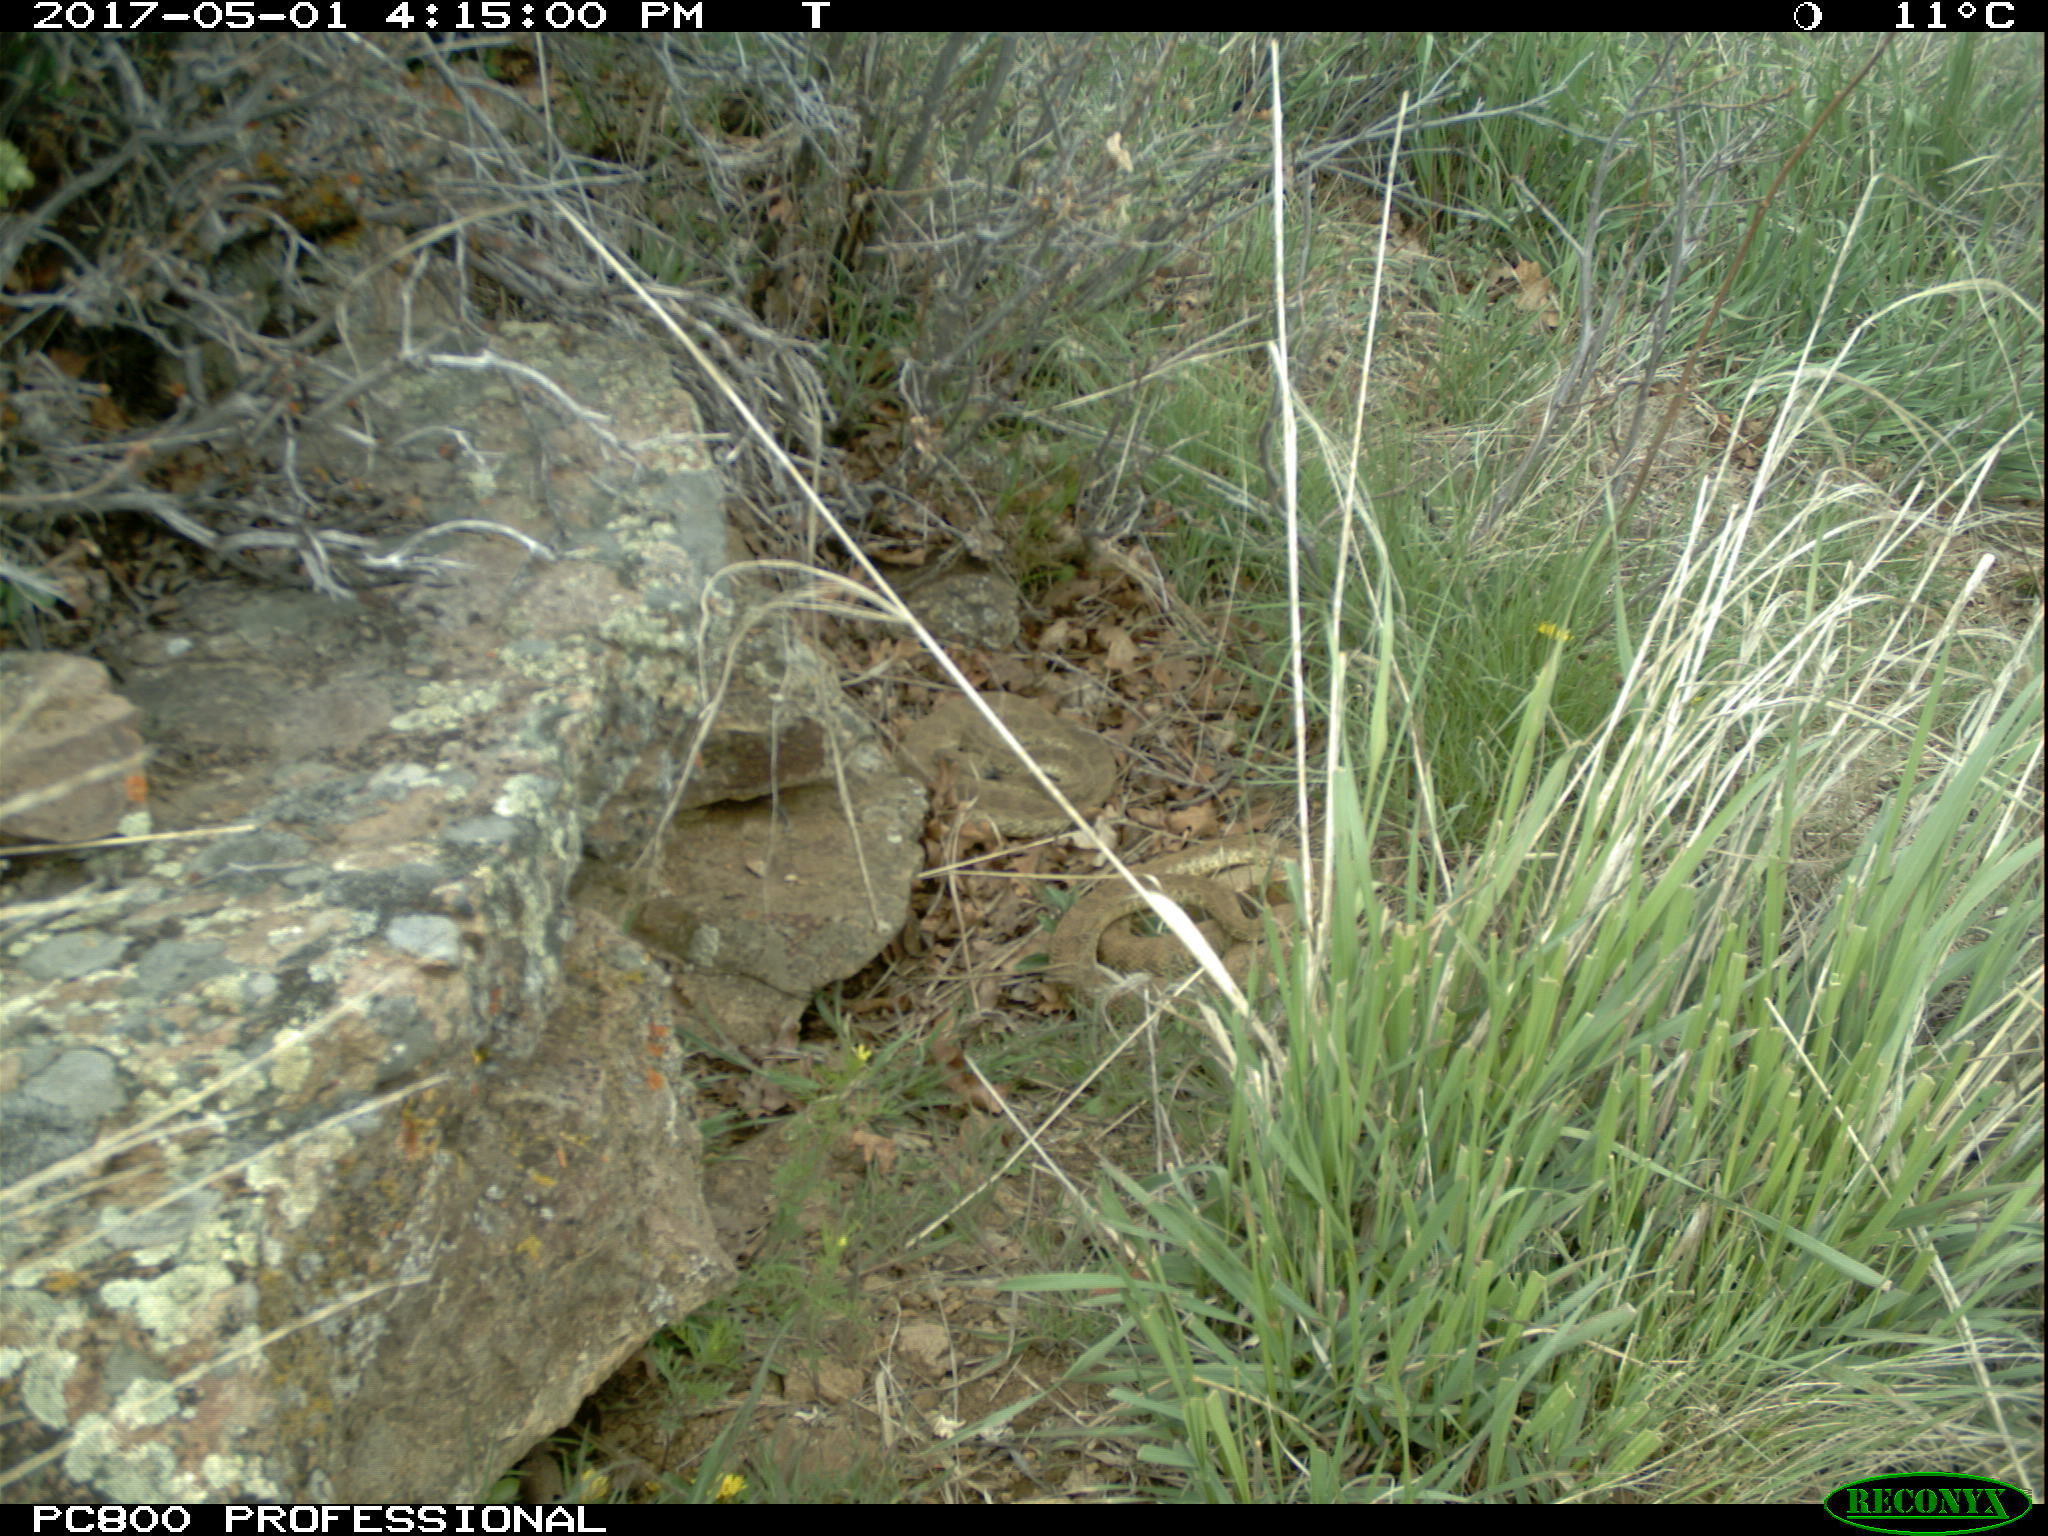snake: (1059, 841, 1321, 1016), (906, 686, 1129, 828)
